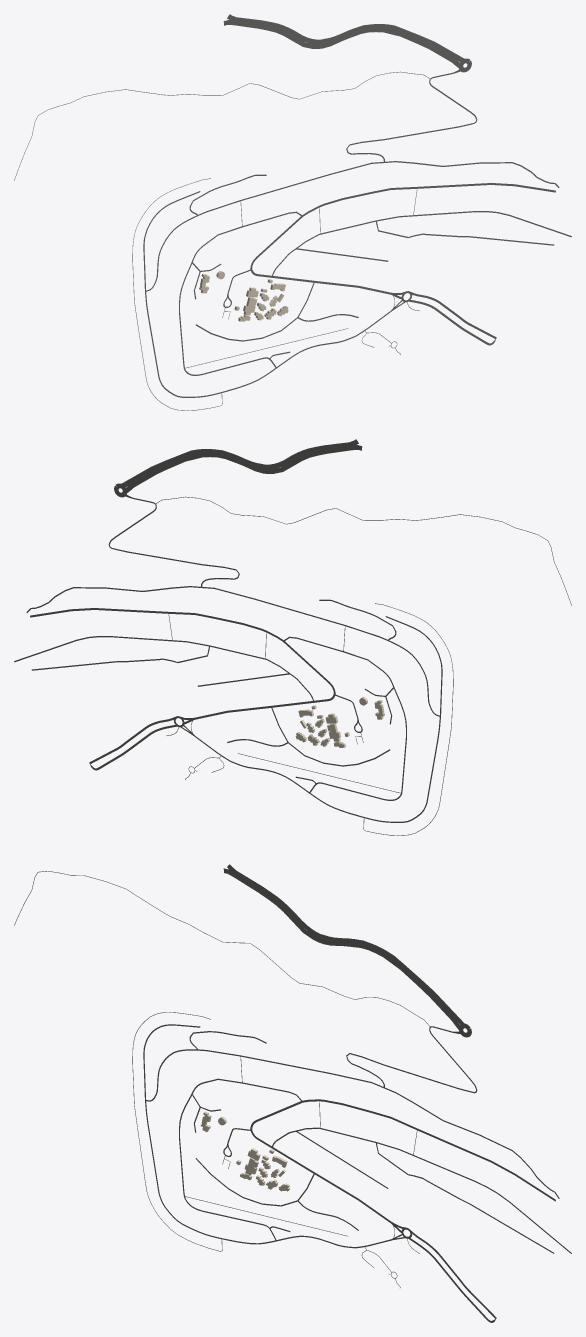
File: historic-palestine-11_36_3533_3301.glb
3 views of the same model, one above another, from view 1: azimuth 30°, elevation 25°; view 2: azimuth 150°, elevation 25°; view 3: azimuth 330°, elevation 25° (orthographic).
Visible parts, largest first — view 1: Road 89.002, Road 89.001, Road .008, Road .002, Road .011, Road .003, Road .005, Road .017, Road .039, Road .009; view 2: Road 89.001, Road 89.002, Road .008, Road .002, Road .011, Road .003, Road .005, Road .017, Road .039, Road .009; view 3: Road 89.001, Road 89.002, Road .008, Road .002, Road .011, Road .003, Road .005.
Boxes of the visible parts, x1=… form: Road 89.002: x1=223, y1=20, x2=461, y2=67; Road 89.001: x1=227, y1=14, x2=465, y2=63; Road .008: x1=250, y1=183, x2=555, y2=294; Road .002: x1=146, y1=161, x2=559, y2=291; Road .011: x1=143, y1=191, x2=390, y2=397; Road .003: x1=179, y1=211, x2=301, y2=375; Road .005: x1=271, y1=211, x2=571, y2=276; Road .017: x1=409, y1=291, x2=496, y2=345; Road .039: x1=14, y1=71, x2=429, y2=180; Road .009: x1=346, y1=73, x2=477, y2=162; Road 89.001: x1=121, y1=439, x2=358, y2=486; Road 89.002: x1=124, y1=445, x2=362, y2=492; Road .008: x1=30, y1=608, x2=335, y2=719; Road .002: x1=26, y1=586, x2=439, y2=716; Road .011: x1=195, y1=616, x2=442, y2=822; Road .003: x1=284, y1=636, x2=406, y2=800; Road .005: x1=14, y1=636, x2=314, y2=701; Road .017: x1=89, y1=717, x2=176, y2=770; Road .039: x1=155, y1=496, x2=571, y2=605; Road .009: x1=108, y1=498, x2=239, y2=586; Road 89.001: x1=227, y1=864, x2=464, y2=1024; Road 89.002: x1=223, y1=868, x2=460, y2=1030; Road .008: x1=250, y1=1099, x2=555, y2=1223; Road .002: x1=145, y1=1049, x2=559, y2=1198; Road .011: x1=143, y1=1024, x2=390, y2=1248; Road .003: x1=179, y1=1078, x2=302, y2=1240; Road .005: x1=271, y1=1127, x2=571, y2=1253.
Bounding box in the file's own units: 1490 × 1008 × 8.7.
